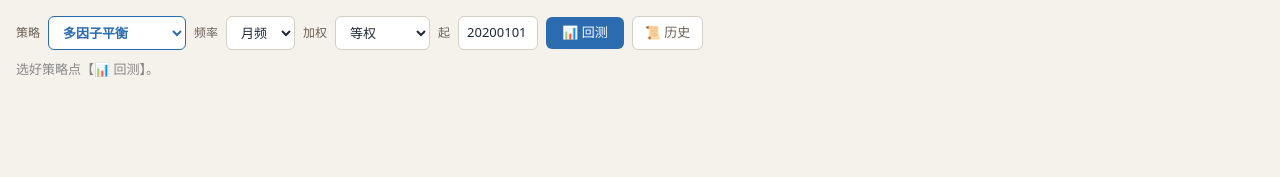
Test case: BacktestPanel › renders caveats when present
Expected: the element with test id "backtest-panel" is shown, [16,16,703,78]
Click the button with test id "backtest-run-btn": (585, 33) [546,17,624,49]
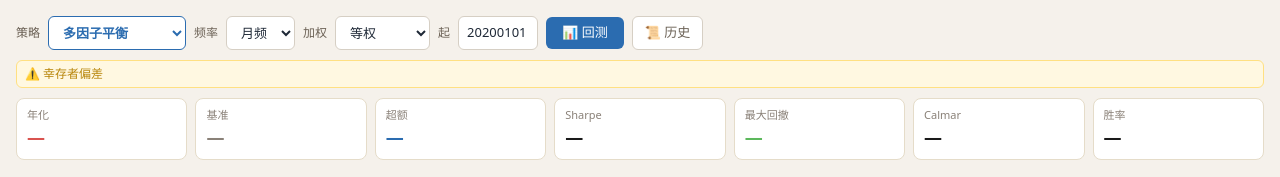
Expected: the text "⚠️ 幸存者偏差" is shown, [16,60,1264,88]
